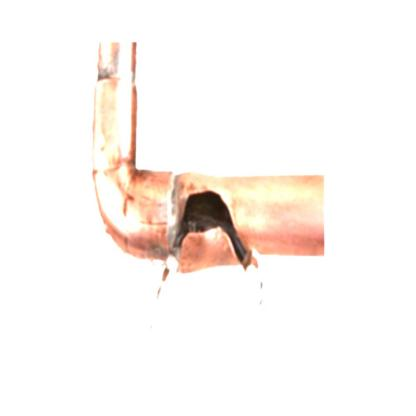burst: (147, 181, 269, 295)
